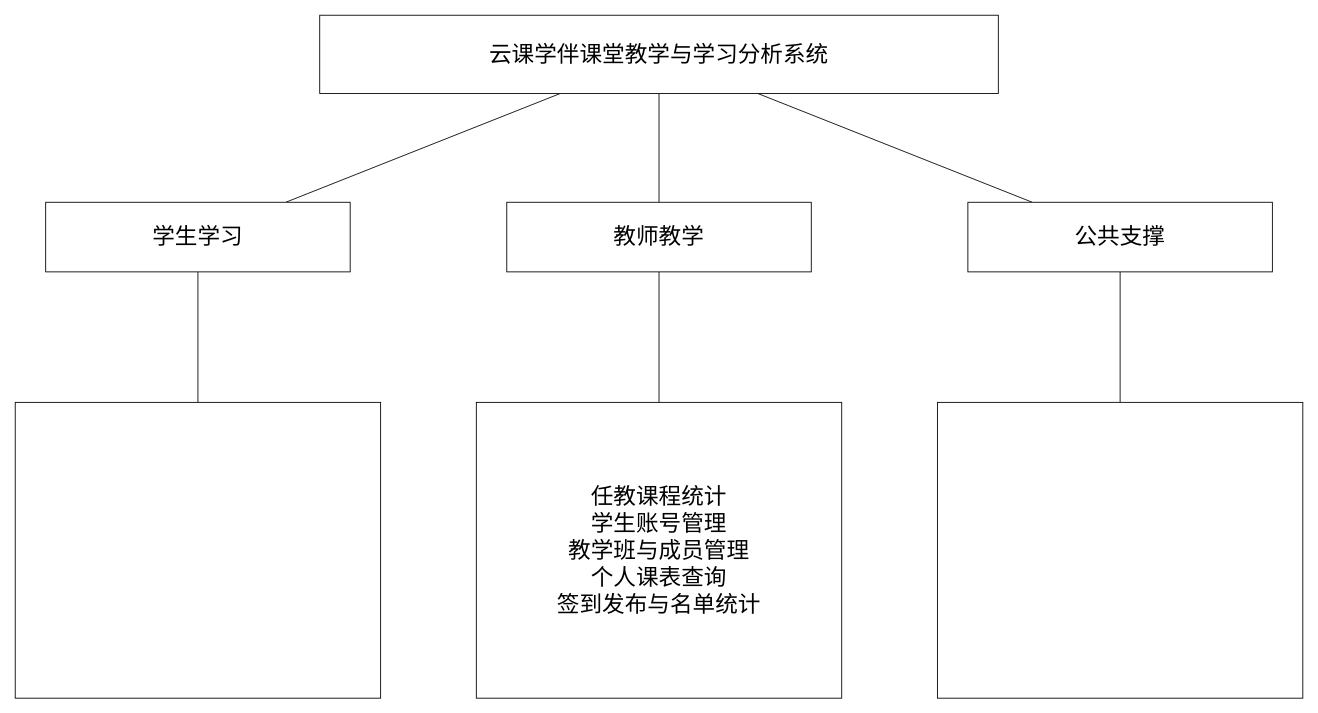
Image size: 1318x713. Some labels were removed from this diagram. The centre of each missing label's shape, as x and y in pixels:
"登录与密码设置 JWT 身份验证 角色及课程权限 事务与完整性约束 Nginx 页面与接口代理" goes at point 1120,550.
"自主选退课 章节及随机练习 评分与结果解析 历史错题与薄弱项 个人课表与签到" goes at point 197,550.
